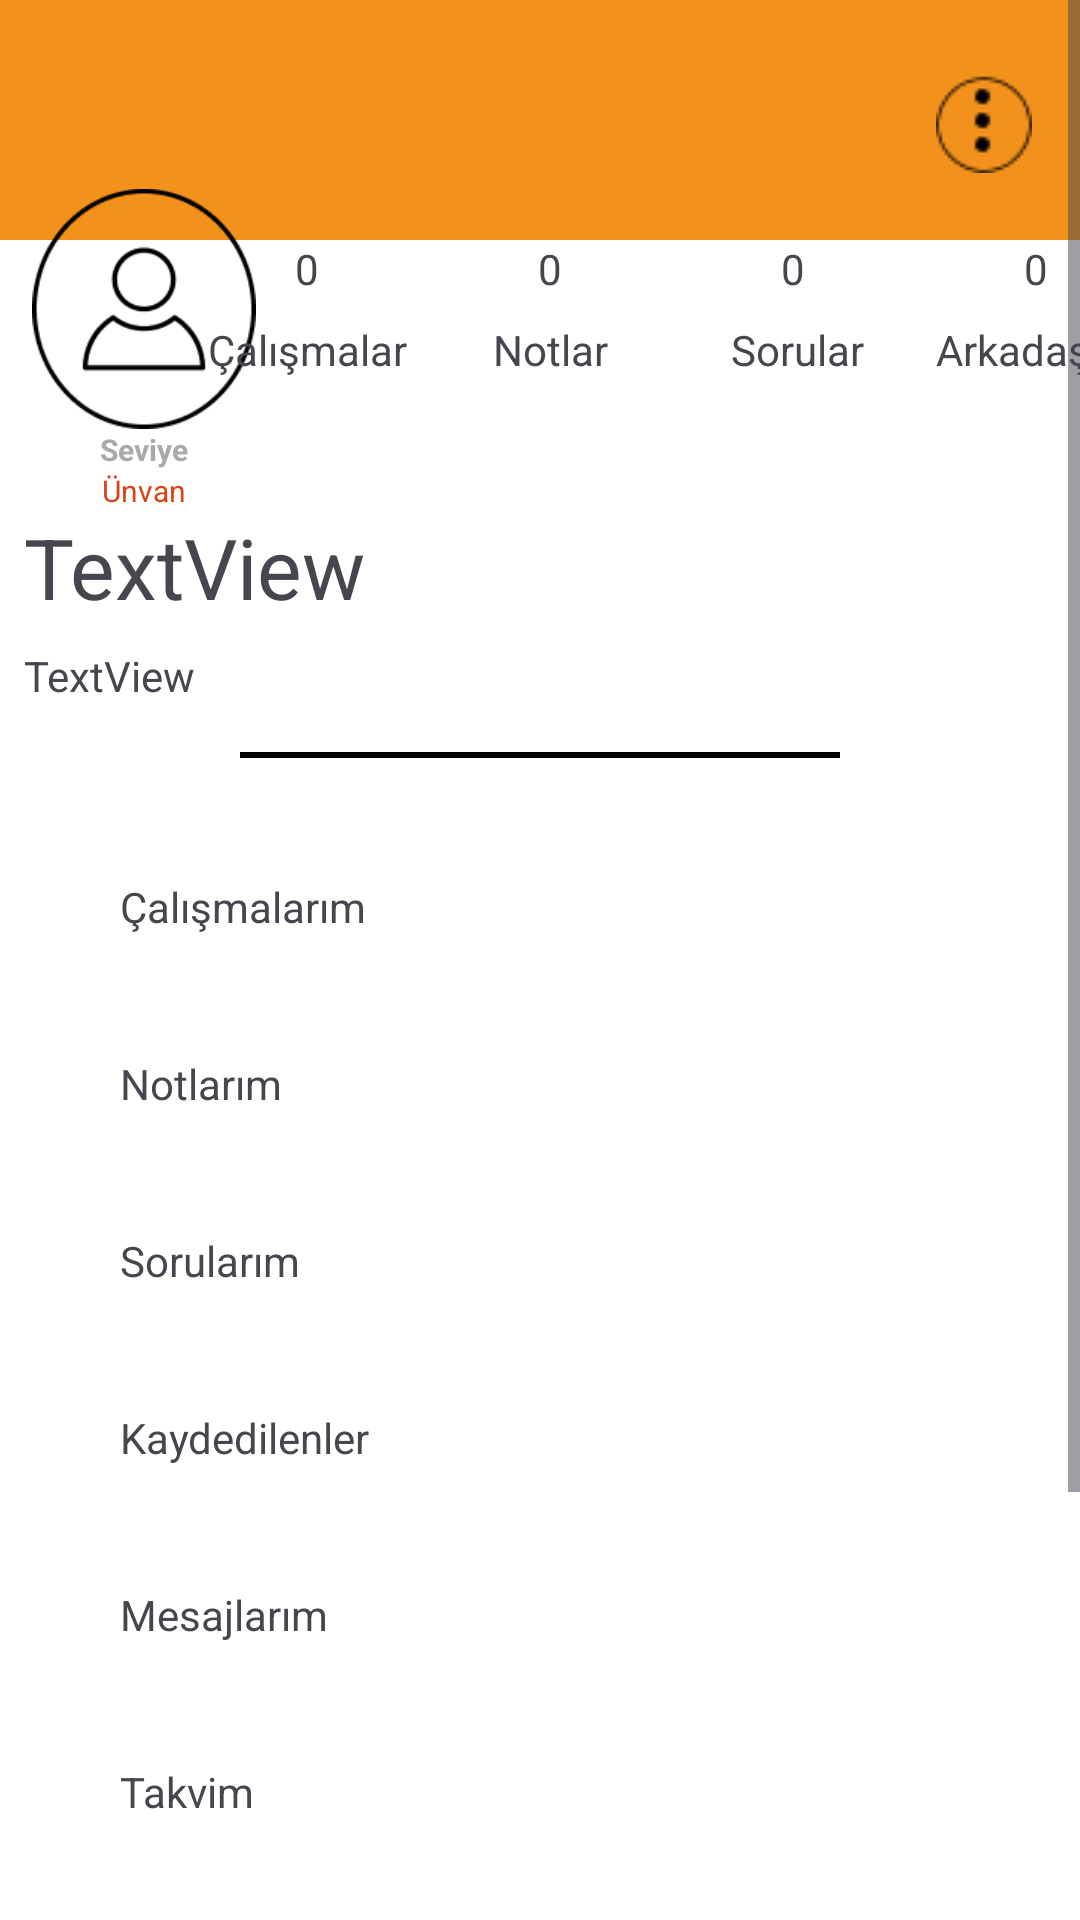

Icons on this 1080px x 1920px Android screen, each with its box as (x1, y1, x2, y2):
option: (936, 76, 1032, 173)
